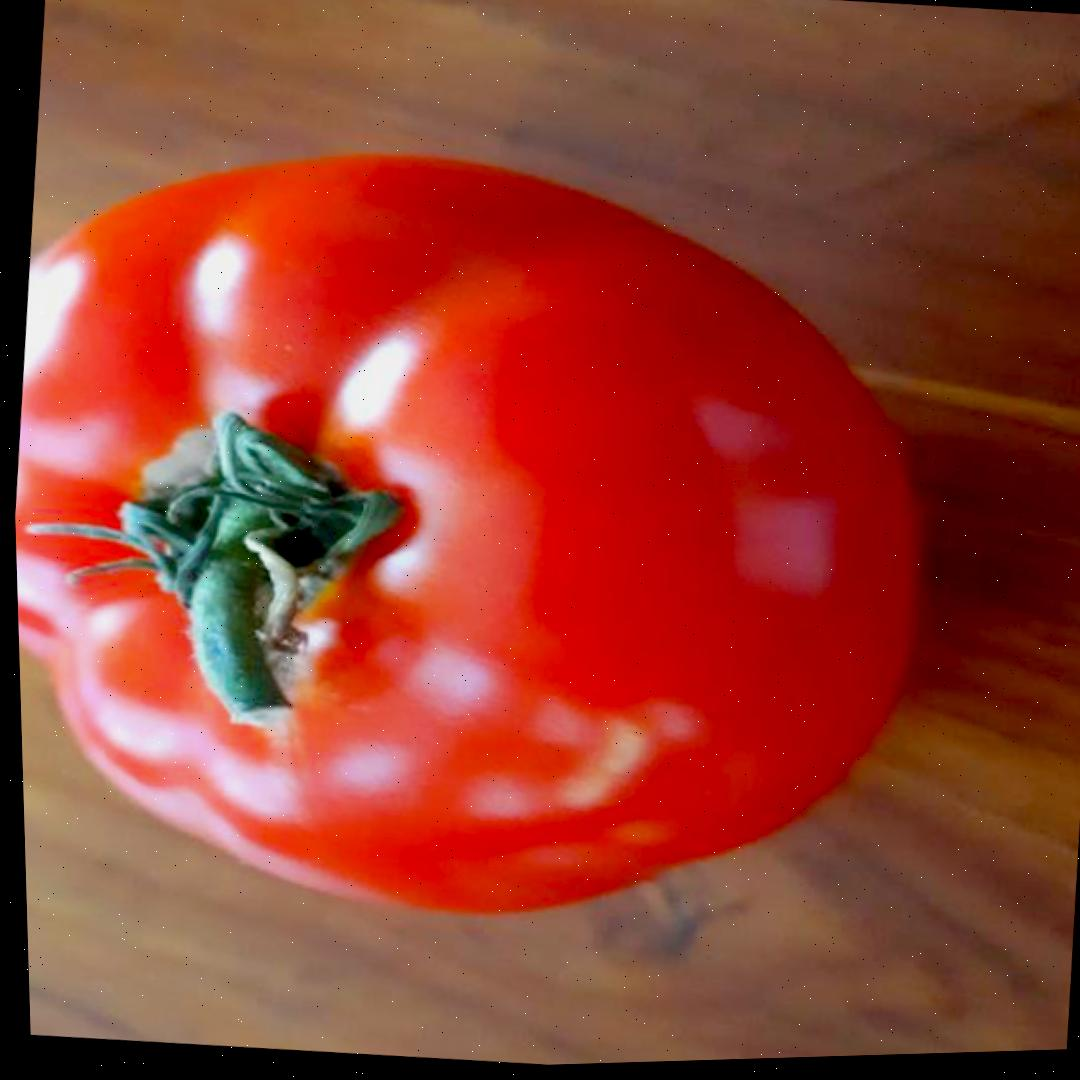matang: (4, 107, 966, 967)
